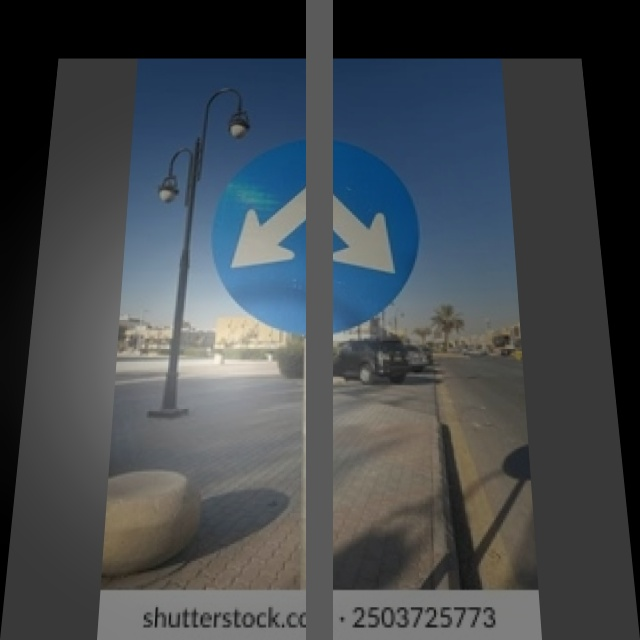Pass_Either_Side: (201, 136, 431, 332)
